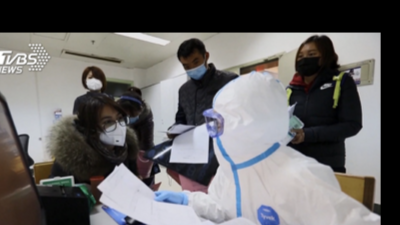with_mask: (99, 113, 127, 149), (294, 47, 322, 78), (183, 55, 206, 80), (83, 74, 103, 92)
